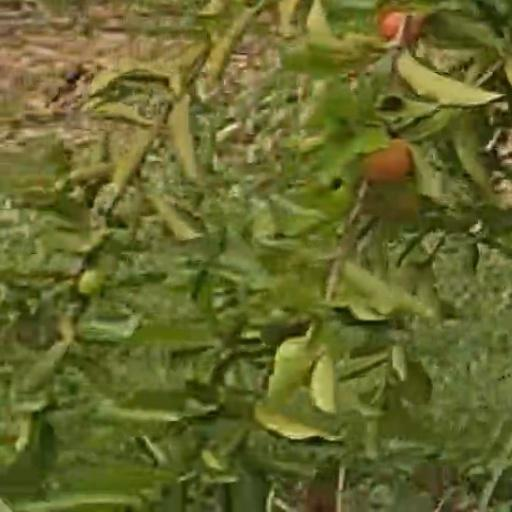acerola: (366, 144, 403, 182), (381, 10, 418, 39)
